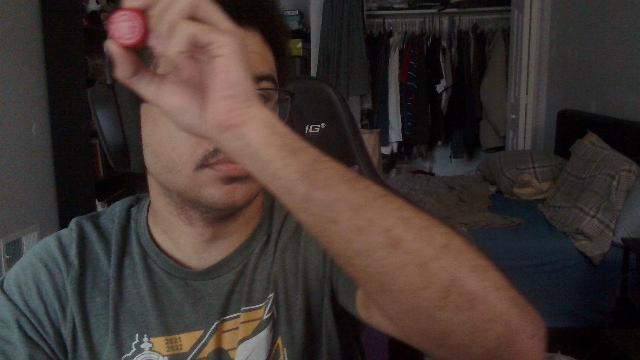cap: (108, 8, 148, 48)
